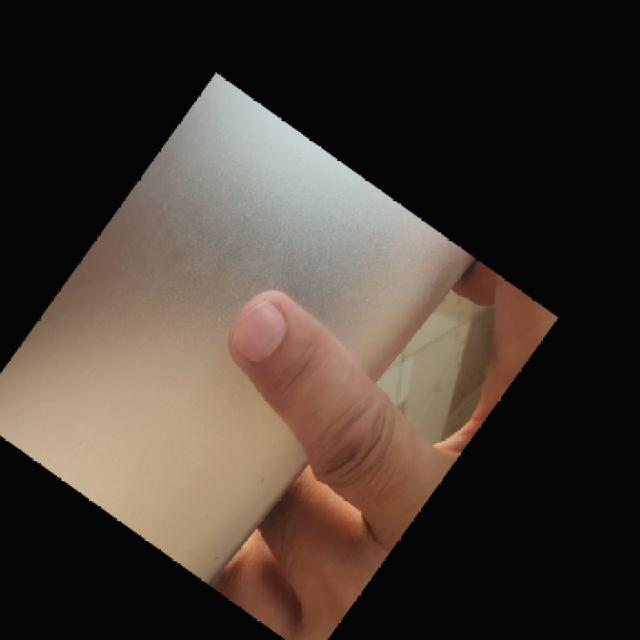Nail: (232, 300, 286, 362)
